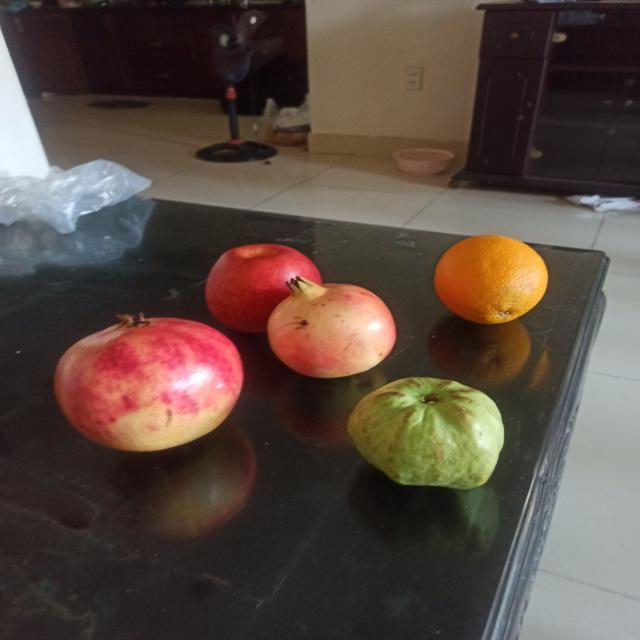apple: (210, 244, 318, 333)
